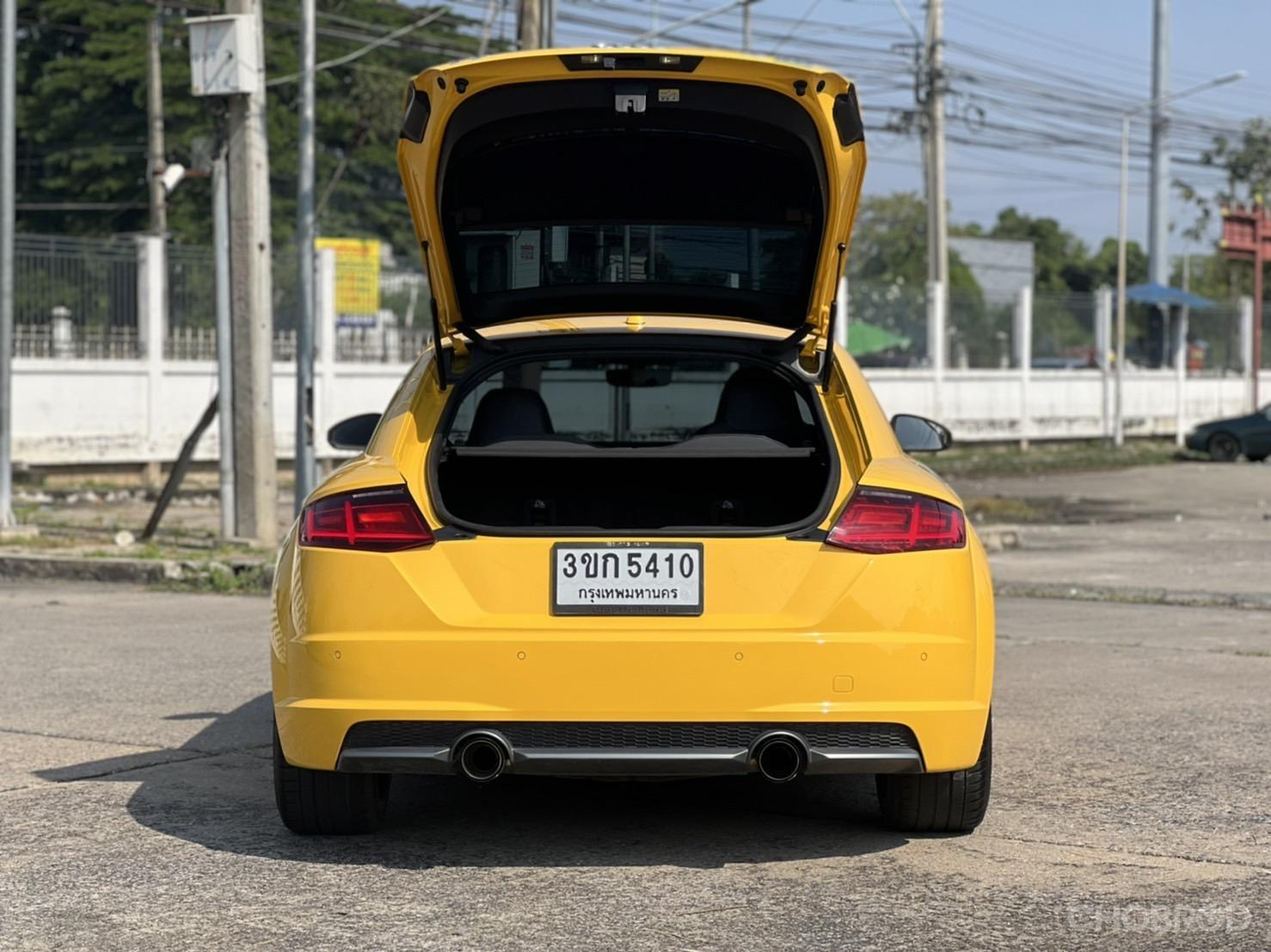license-plate: (552, 538, 707, 620)
